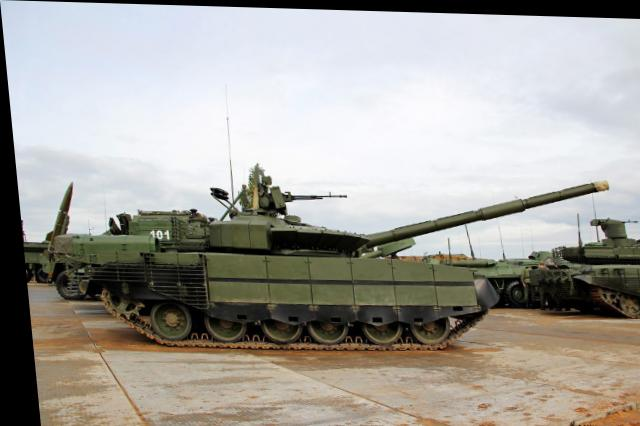tank: (88, 206, 479, 344), (540, 215, 640, 308)
